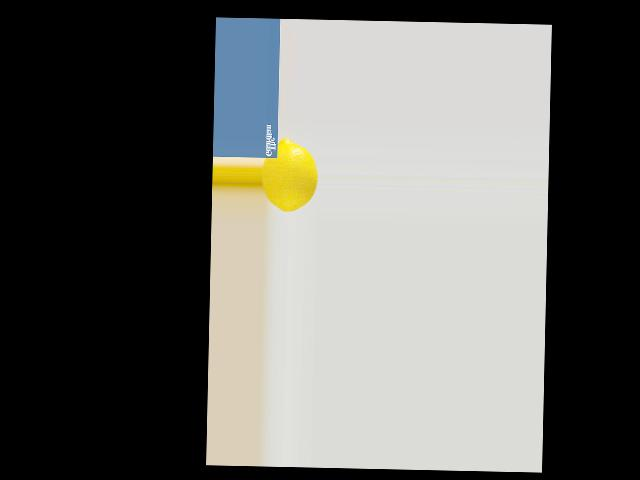lemon: (260, 139, 318, 212)
